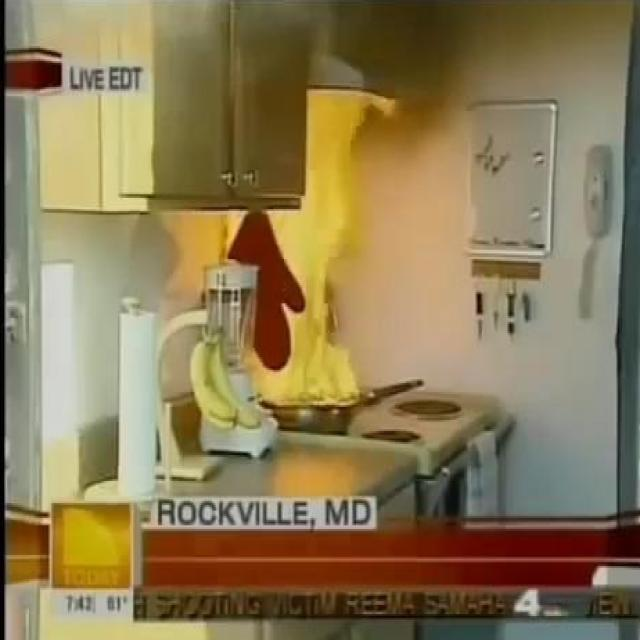smoke: (250, 88, 371, 417)
